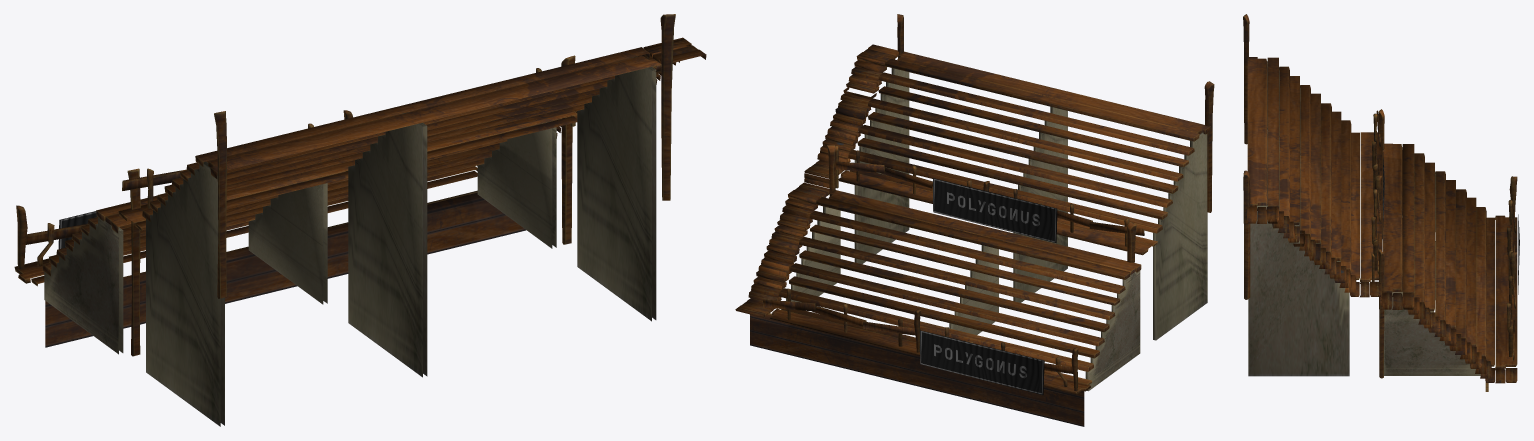
Rendered from SM_WBT_stadiumStairs_low.fbx.
The picture shows the model from 3 angles, left to right: view 1: azimuth 30°, elevation 25°; view 2: azimuth 150°, elevation 25°; view 3: azimuth 270°, elevation 25°; orthographic projection. The views are drawn at different scales.
Parts seen in each view (by area): view 1: SM_WBT_stadiumStairs_low; view 2: SM_WBT_stadiumStairs_low; view 3: SM_WBT_stadiumStairs_low.
Boxes of the visible parts, x1,y1,x2,y2 form: SM_WBT_stadiumStairs_low: (14, 14, 706, 426); SM_WBT_stadiumStairs_low: (735, 14, 1214, 426); SM_WBT_stadiumStairs_low: (1243, 14, 1519, 391).
Size of the model in its own units: 1700 by 1205 by 1200.
